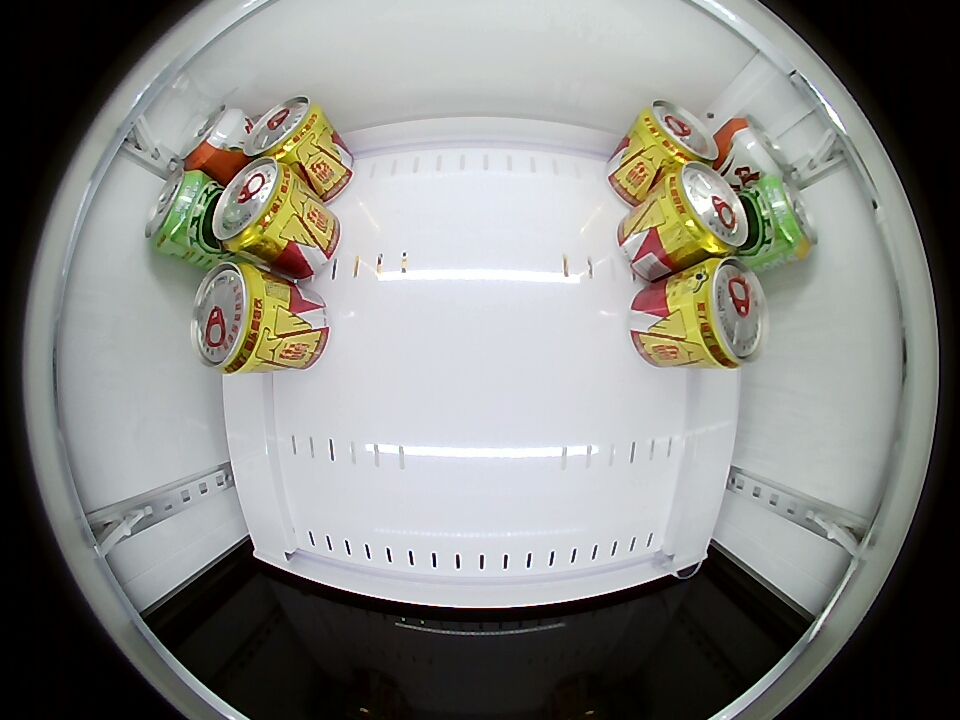dongpeng: (190, 259, 278, 375), (685, 257, 768, 369), (210, 158, 299, 256), (661, 161, 750, 258), (638, 100, 719, 166), (246, 96, 324, 162)
jianlibao: (179, 105, 247, 173), (724, 115, 788, 182)
quchenshixiangcao: (145, 168, 206, 255), (760, 177, 816, 261)
